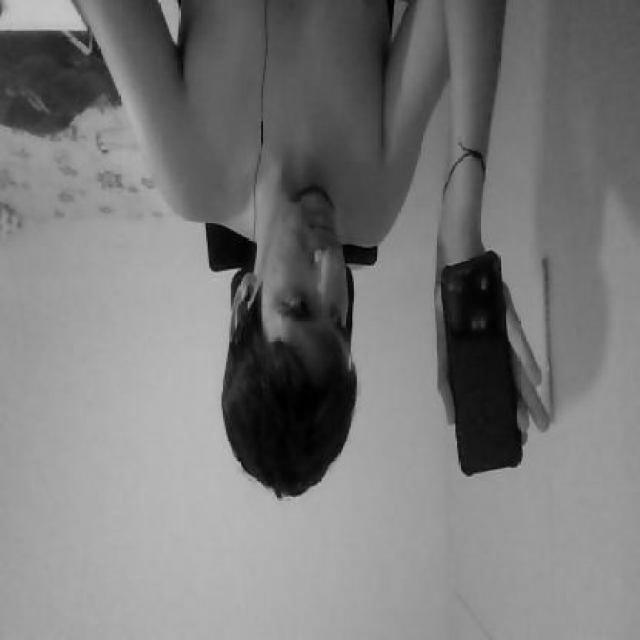fake: (441, 242, 524, 478)
real: (259, 175, 373, 362)
